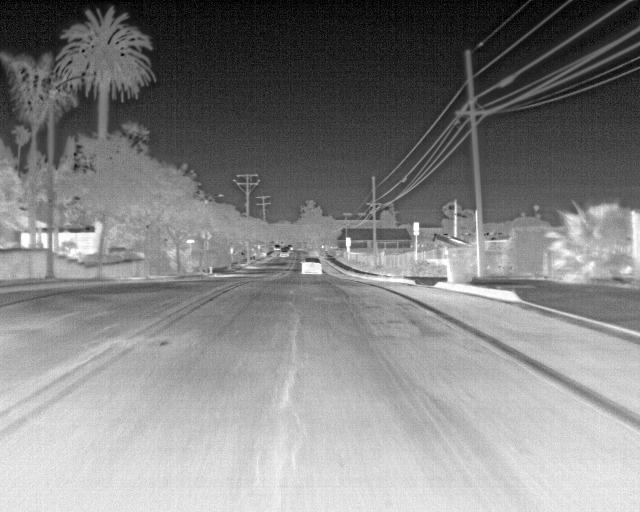car: (301, 257, 321, 276), (276, 246, 290, 258)
